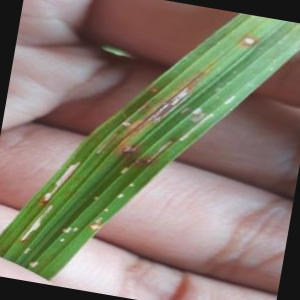Brown_Spot: (145, 56, 210, 126), (146, 124, 187, 173), (234, 30, 270, 54)
